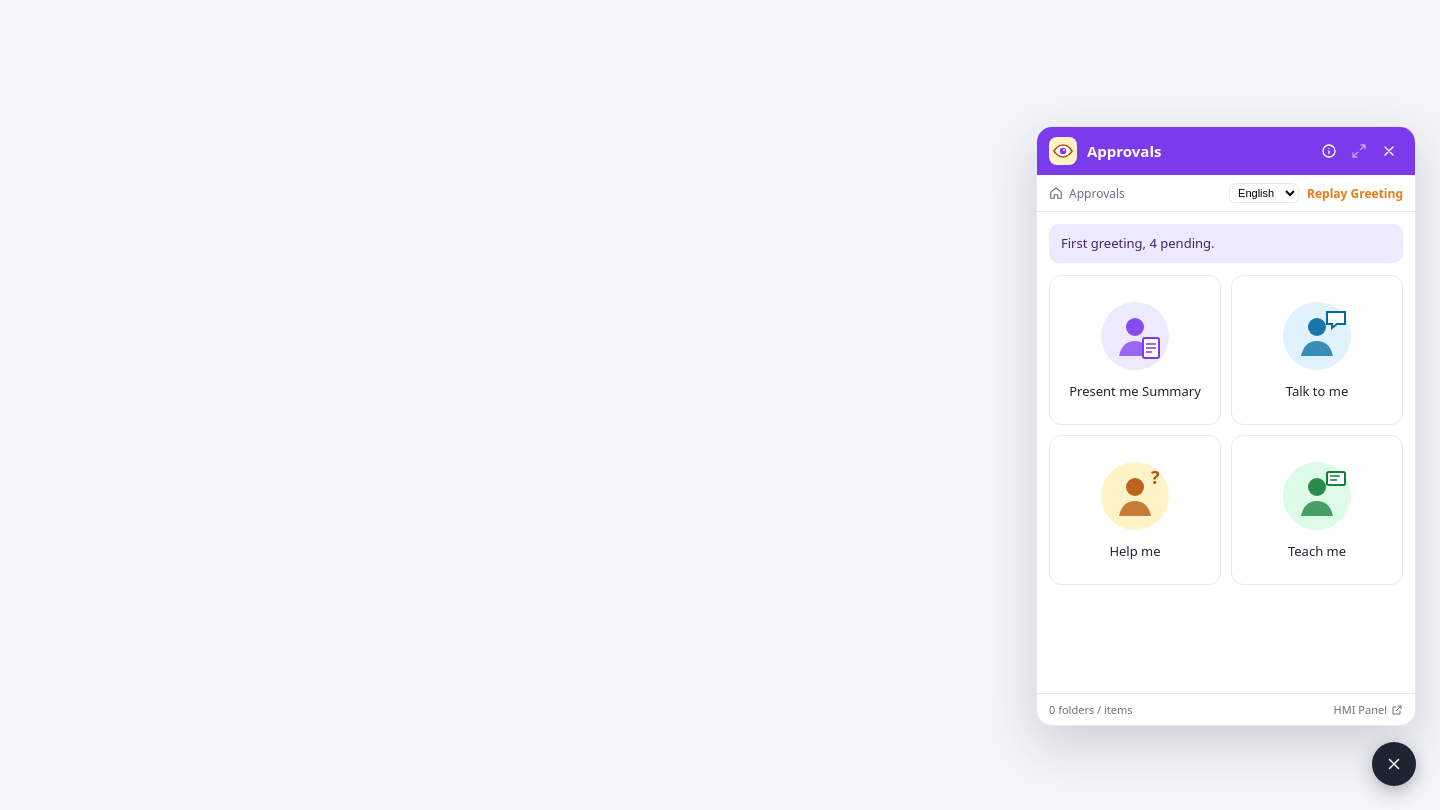
Test: AssistantWidget › Replay Greeting asks the server for a fresh greeting instead of replaying a fixed string
The width and height of the screenshot is (1440, 810).
Expected: the text "First greeting, 4 pending." is shown, [1049,224,1403,263]
Click the button "Replay Greeting" at (1355, 193), box [1307,184,1403,202]
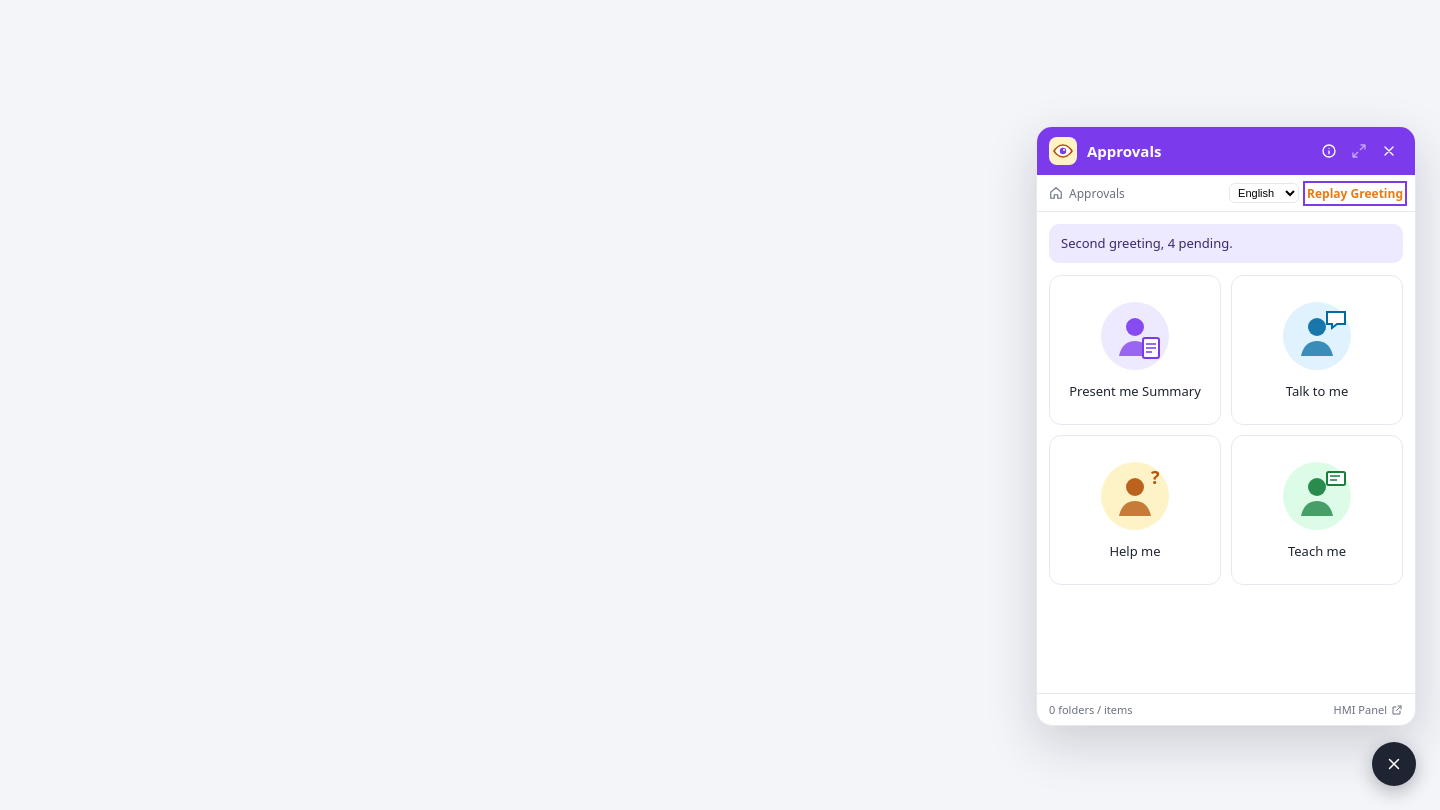
Result: the text "Second greeting, 4 pending." is shown at [1049,224,1403,263]
